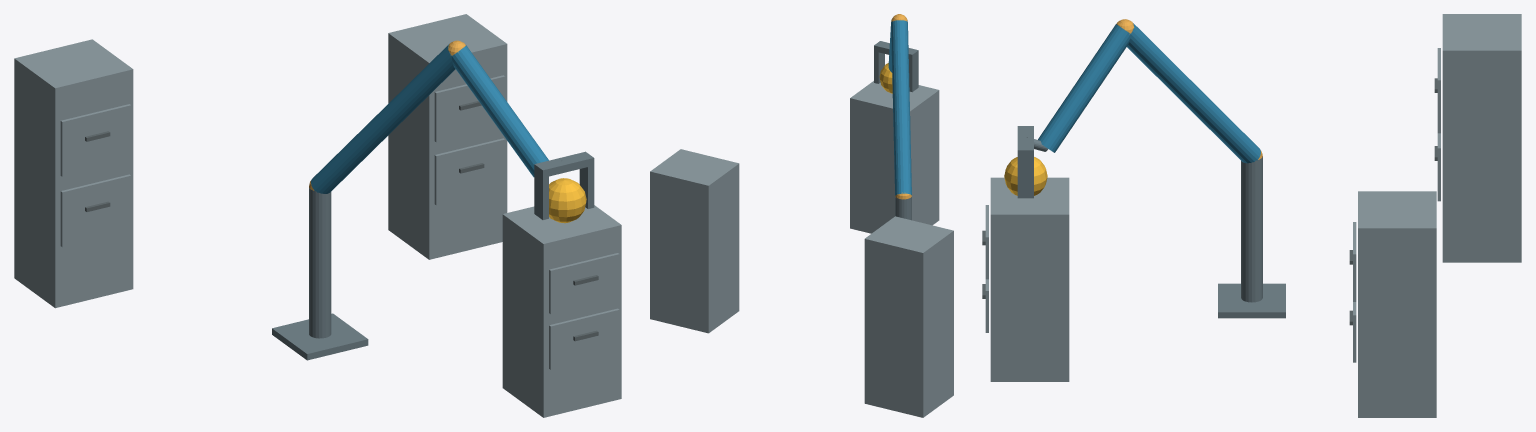
3 views of the same model, side by side, from view 1: azimuth 30°, elevation 25°; view 2: azimuth 150°, elevation 25°; view 3: azimuth 270°, elevation 25° (orthographic). The views are drawn at different scales.
Visible parts, largest first — view 1: cabinet_3 body, cabinet_1 body, cabinet_2 body, moving link 1, cabinet_3 drawer front, cabinet_3 drawer front.001, cabinet_2 drawer front, fixed post, moving link 2, cabinet_1 drawer front.001, cabinet_1 drawer front, cabinet_2 drawer front.001 (+4 smaller); view 2: cabinet_3 body, cabinet_2 body, cabinet_1 body, moving link 1, fixed post, gripper finger -1, ball ball_1, gripper bridge; view 3: cabinet_3 body, cabinet_2 body, cabinet_1 body, moving link 1, moving link 2, fixed post, pedestal, ball ball_1, gripper finger 1, gripper bridge.
Part boxes in pixels (x1,y1,x2,y2): cabinet_3 body: [14, 39, 133, 308]; cabinet_1 body: [502, 205, 621, 417]; cabinet_2 body: [388, 14, 507, 259]; moving link 1: [311, 44, 455, 193]; cabinet_3 drawer front: [60, 174, 131, 247]; cabinet_3 drawer front.001: [60, 104, 131, 176]; cabinet_2 drawer front: [434, 138, 505, 205]; fixed post: [309, 188, 331, 338]; moving link 2: [452, 45, 548, 177]; cabinet_1 drawer front.001: [549, 253, 619, 314]; cabinet_1 drawer front: [549, 308, 619, 369]; cabinet_2 drawer front.001: [434, 75, 505, 142]; cabinet_3 body: [864, 216, 953, 417]; cabinet_2 body: [650, 149, 739, 333]; cabinet_1 body: [850, 81, 939, 233]; moving link 1: [891, 20, 911, 195]; fixed post: [895, 196, 911, 220]; gripper finger -1: [909, 56, 918, 92]; ball ball_1: [879, 63, 892, 93]; gripper bridge: [874, 41, 918, 60]; cabinet_3 body: [1442, 14, 1521, 262]; cabinet_2 body: [1358, 191, 1436, 417]; cabinet_1 body: [990, 177, 1069, 381]; moving link 1: [1127, 23, 1260, 163]; moving link 2: [1038, 24, 1130, 152]; fixed post: [1241, 156, 1262, 302]; pedestal: [1218, 283, 1285, 318]; ball ball_1: [1004, 157, 1047, 195]; gripper finger 1: [1017, 157, 1033, 198]; gripper bridge: [1017, 126, 1033, 157].
Bounding box in the file's own units: 1.67 × 1.29 × 1.98.
